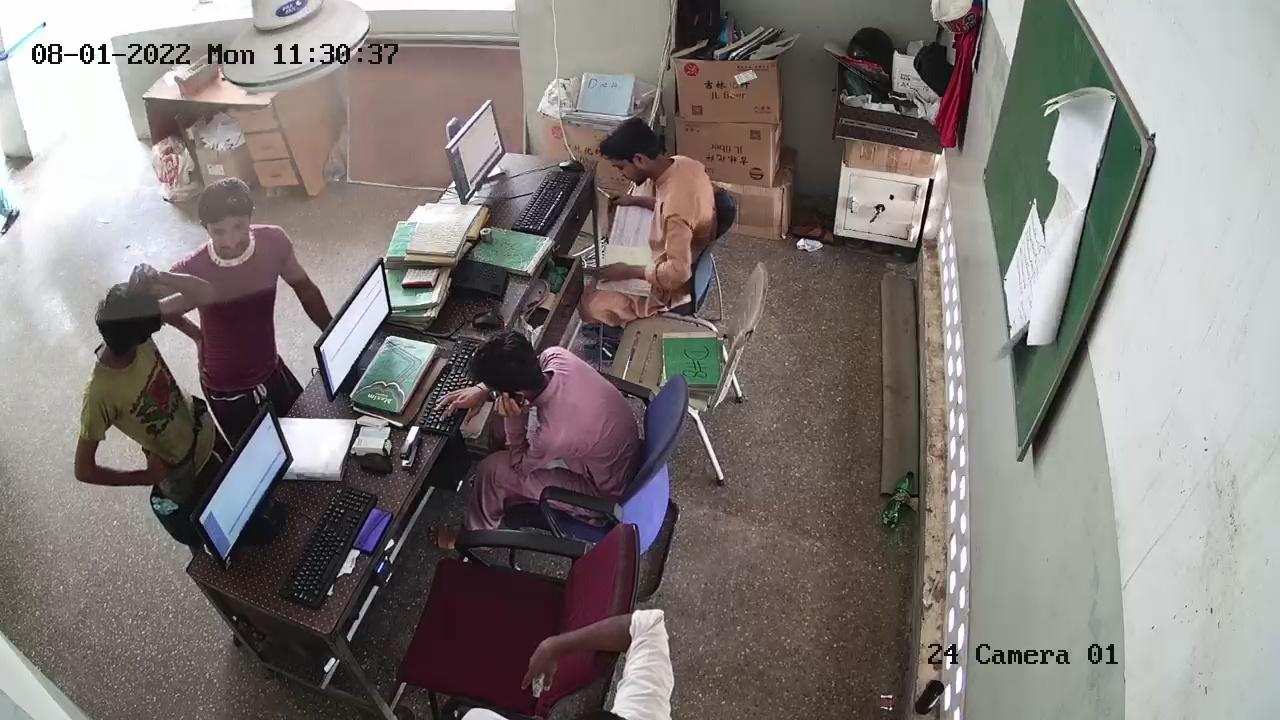person: (191, 190, 319, 425), (459, 327, 630, 485), (86, 288, 210, 487), (601, 123, 715, 302)
